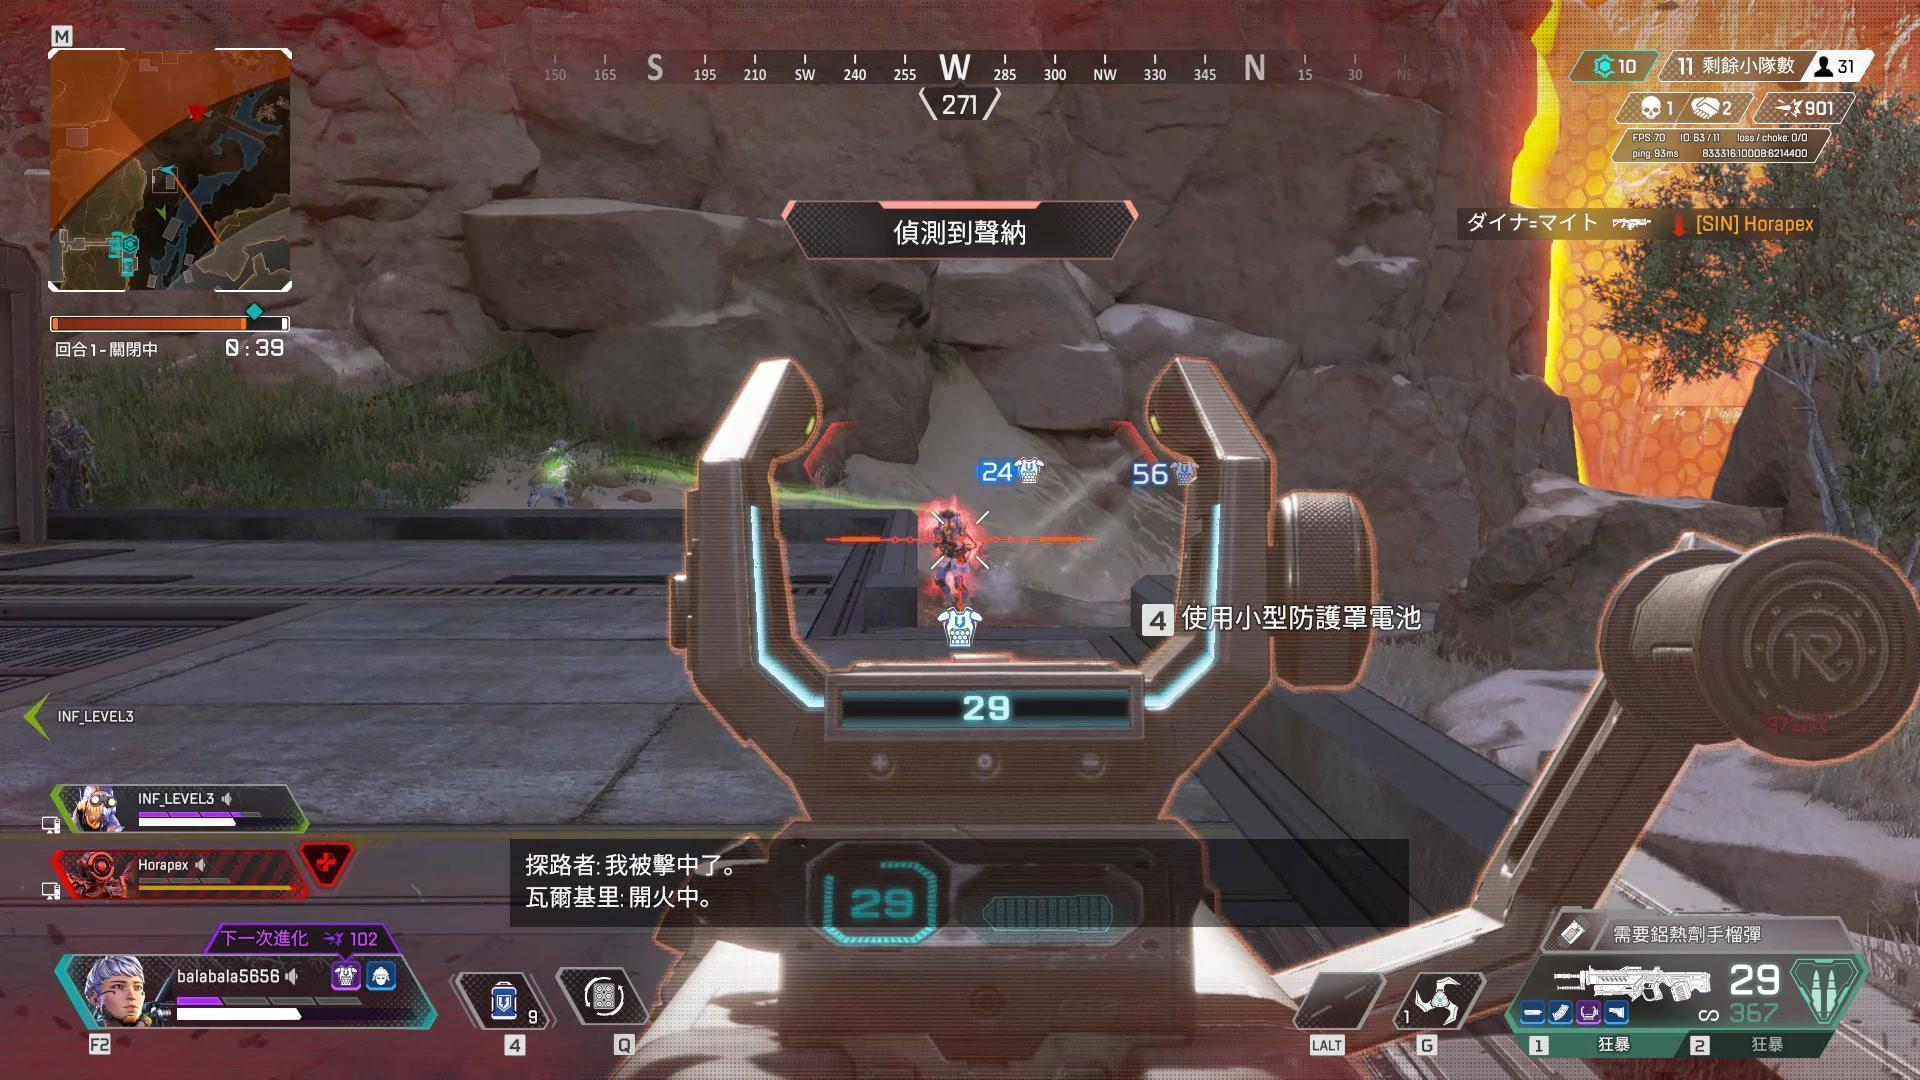avatar: (921, 505, 982, 610), (46, 403, 101, 512)
